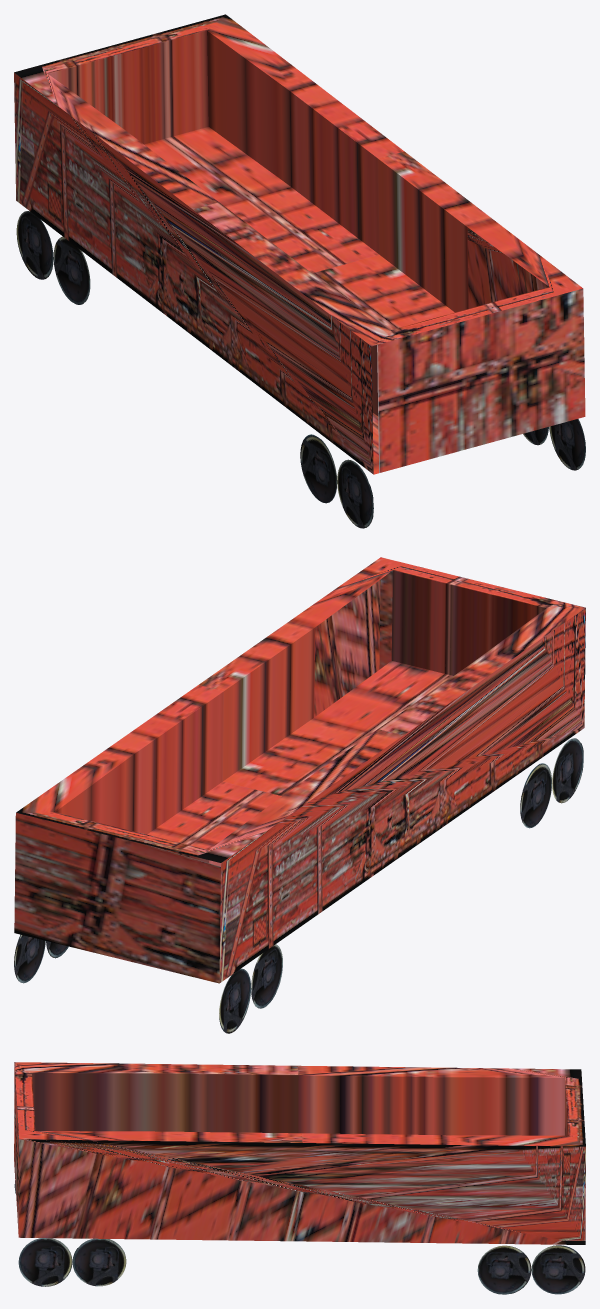
File: cart3.fbx
The picture shows the model from 3 angles, top to bottom: view 1: azimuth 30°, elevation 25°; view 2: azimuth 150°, elevation 25°; view 3: azimuth 270°, elevation 25°; orthographic projection. The views are drawn at different scales.
Visible parts, largest first — view 1: Cube.002, Circle.012, Circle.015, Circle.013, Circle.014, Circle.010; view 2: Cube.002, Circle.013, Circle.012, Circle.015, Circle.014, Circle.008; view 3: Cube.002, Circle.008, Circle.009, Circle.010, Circle.011.
Boxes of the visible parts, x1=… form: Cube.002: x1=14, y1=14, x2=585, y2=474; Circle.012: x1=300, y1=434, x2=337, y2=503; Circle.015: x1=16, y1=211, x2=53, y2=279; Circle.013: x1=337, y1=459, x2=373, y2=528; Circle.014: x1=53, y1=236, x2=90, y2=304; Circle.010: x1=549, y1=419, x2=585, y2=470; Cube.002: x1=14, y1=557, x2=585, y2=983; Circle.013: x1=552, y1=738, x2=583, y2=803; Circle.012: x1=520, y1=763, x2=551, y2=828; Circle.015: x1=219, y1=968, x2=250, y2=1033; Circle.014: x1=251, y1=944, x2=282, y2=1008; Circle.008: x1=14, y1=934, x2=45, y2=983; Cube.002: x1=14, y1=1062, x2=585, y2=1244; Circle.008: x1=531, y1=1245, x2=585, y2=1294; Circle.009: x1=477, y1=1245, x2=531, y2=1294; Circle.010: x1=18, y1=1238, x2=72, y2=1286; Circle.011: x1=72, y1=1238, x2=126, y2=1286.
Bounding box in the file's own units: 769 × 617 × 2121.
2 materials, 2 textured.
